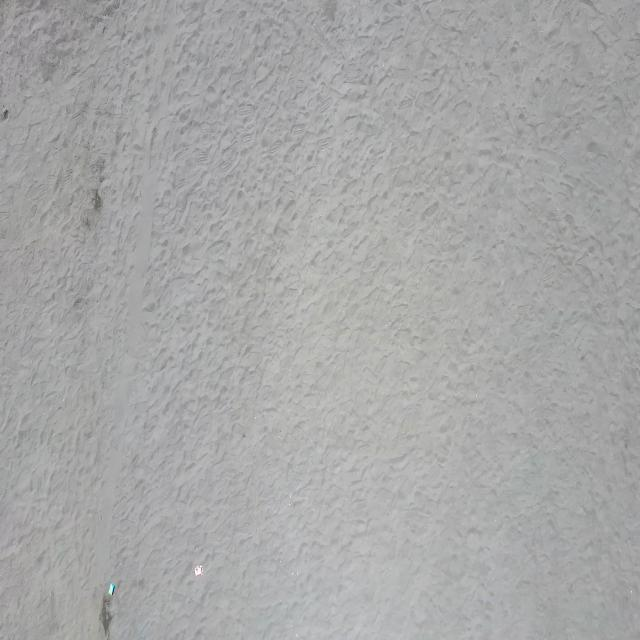Garbage: (193, 564, 203, 575), (108, 583, 116, 595)
